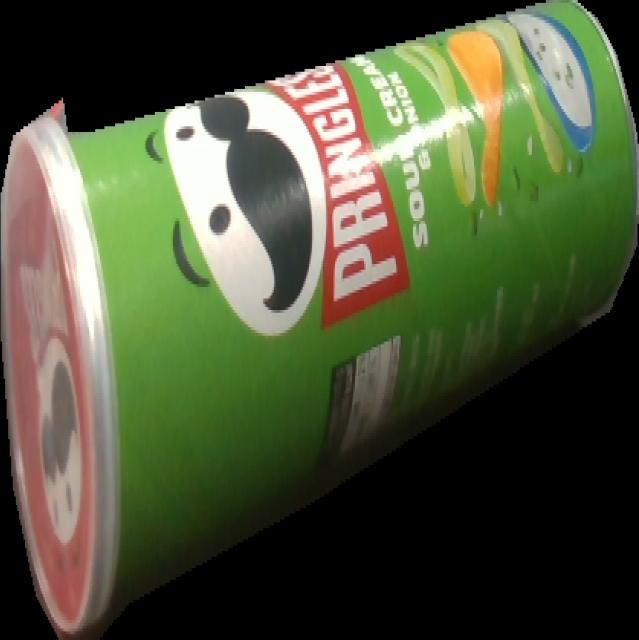pringles: (1, 0, 639, 640)
